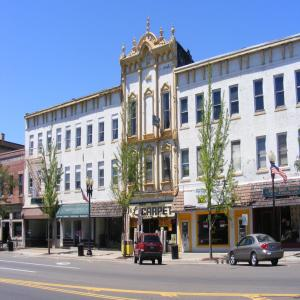Vehicle-registration-plate: (273, 246, 278, 250), (151, 246, 155, 250)
